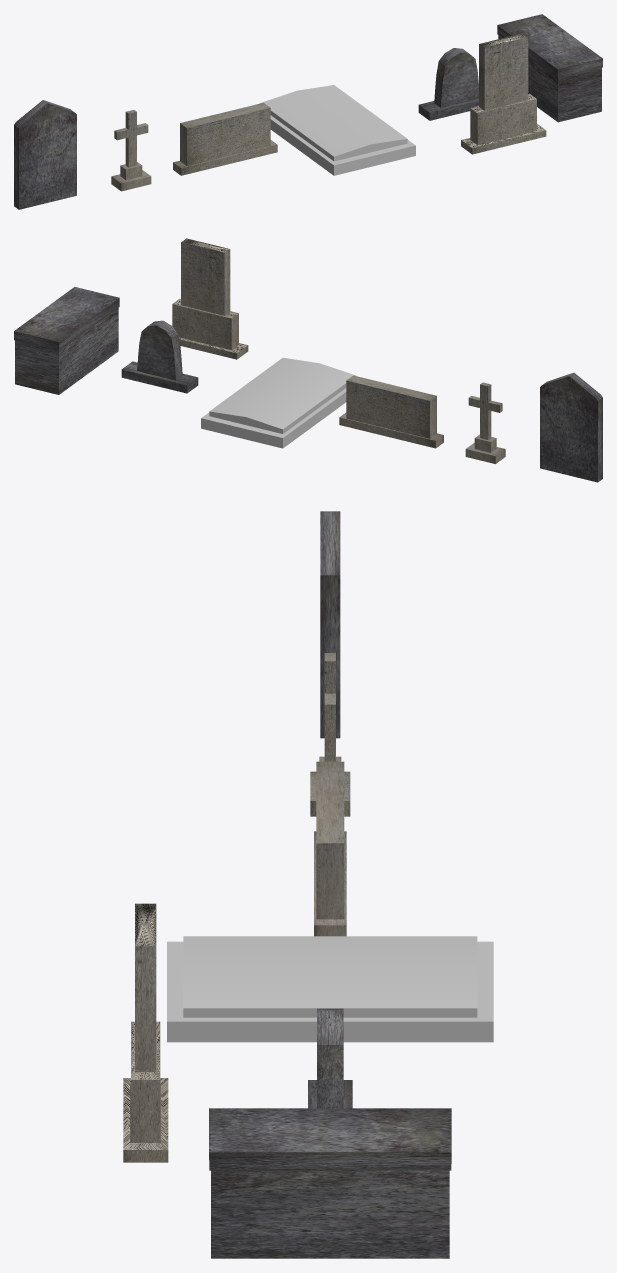
File: tombs 1.fbx
3 renders of one model, top to bottom at view 1: azimuth 30°, elevation 25°; view 2: azimuth 150°, elevation 25°; view 3: azimuth 270°, elevation 25°, orthographic. The views are drawn at different scales.
Visible parts, largest first — view 1: tomb4, tomb5, tomb1, tomb3, tomb_lid, tomb_box, tomb6, tomb2; view 2: tomb4, tomb5, tomb1, tomb3, tomb_box, tomb_lid, tomb6, tomb2; view 3: tomb4, tomb_box, tomb_lid, tomb5, tomb3, tomb1, tomb6, tomb2.
Part boxes in pixels (x1,y1,x2,y2): tomb4: (260,85,415,175); tomb5: (461,33,546,154); tomb1: (14,100,76,209); tomb3: (173,103,277,175); tomb_lid: (497,14,602,78); tomb_box: (498,35,601,122); tomb6: (418,48,478,120); tomb2: (111,110,151,191); tomb4: (201,357,356,448); tomb5: (172,238,248,359); tomb1: (540,372,602,482); tomb3: (339,375,443,448); tomb_box: (15,308,118,394); tomb_lid: (14,287,119,350); tomb6: (121,320,198,393); tomb2: (465,382,505,463); tomb4: (167,936,493,1042); tomb_box: (211,1170,449,1258); tomb_lid: (209,1108,451,1170); tomb5: (123,903,168,1162); tomb3: (314,761,346,936); tomb1: (320,511,340,738); tomb6: (308,1008,352,1108); tomb2: (310,653,350,816).
Bounding box in the file's own units: 28.52 × 5.71 × 8.23.
